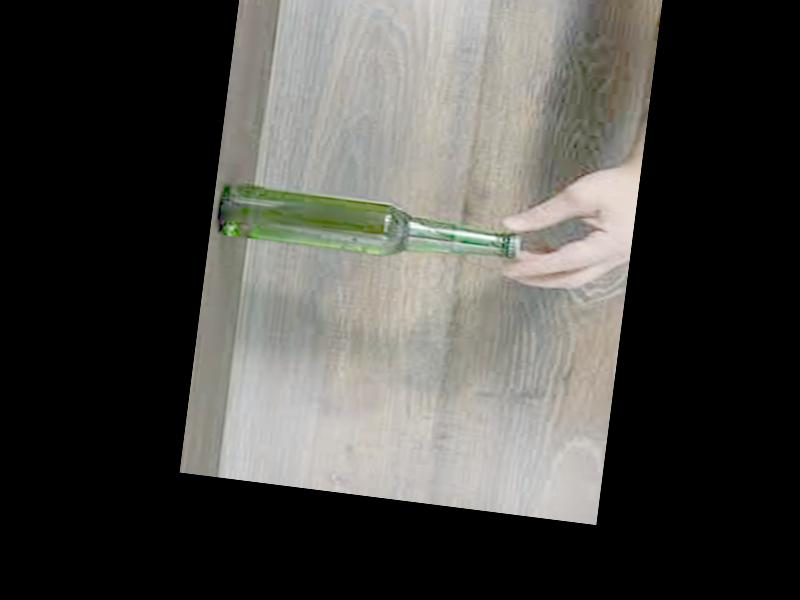Beer: (217, 180, 525, 272)
